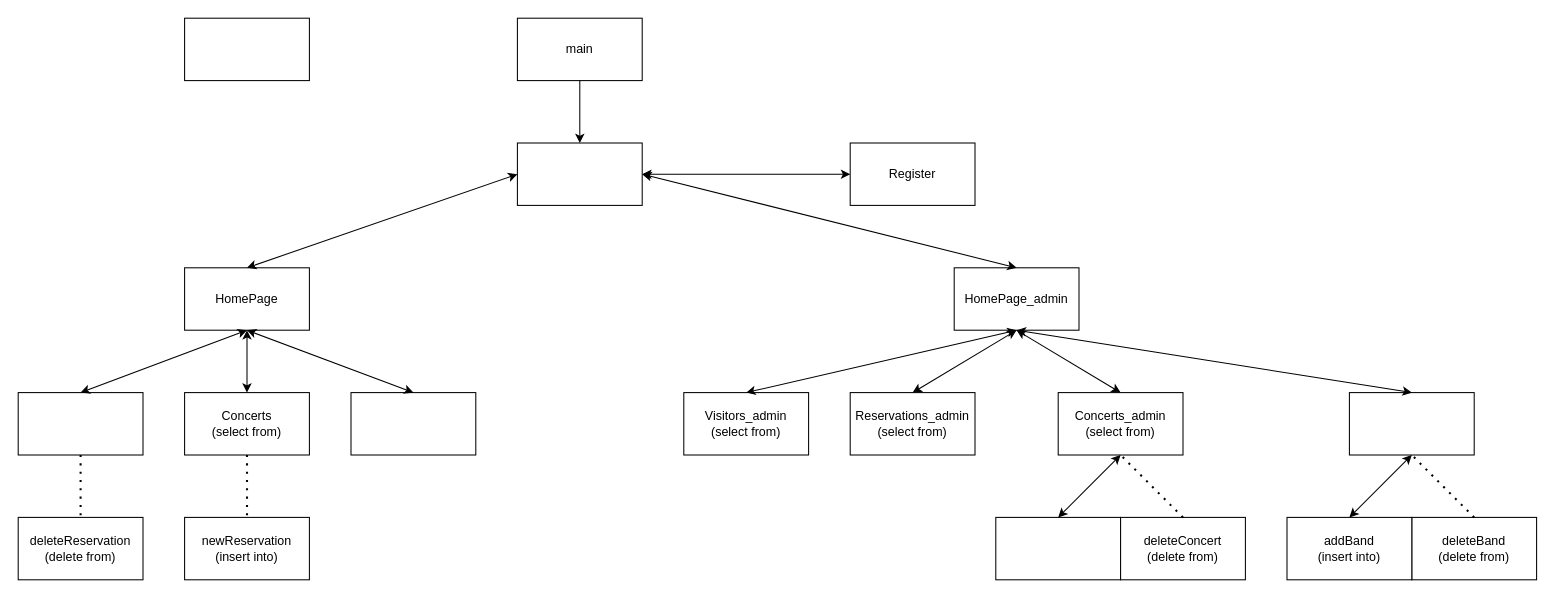
Image size: 1555x598. Some labels were removed from this diagram. The shapes that lost their labels are listed below. From the top down, each one's centre as x and y in pixels, then its label:
At pixel 246 49: "DB_managment".
At pixel 579 173: "Login".
At pixel 80 423: "Reservations (select from)".
At pixel 413 423: "Bands (select from)".
At pixel 1411 423: "Bands_admin (select from)".
At pixel 1058 548: "addConcert (insert into)".
